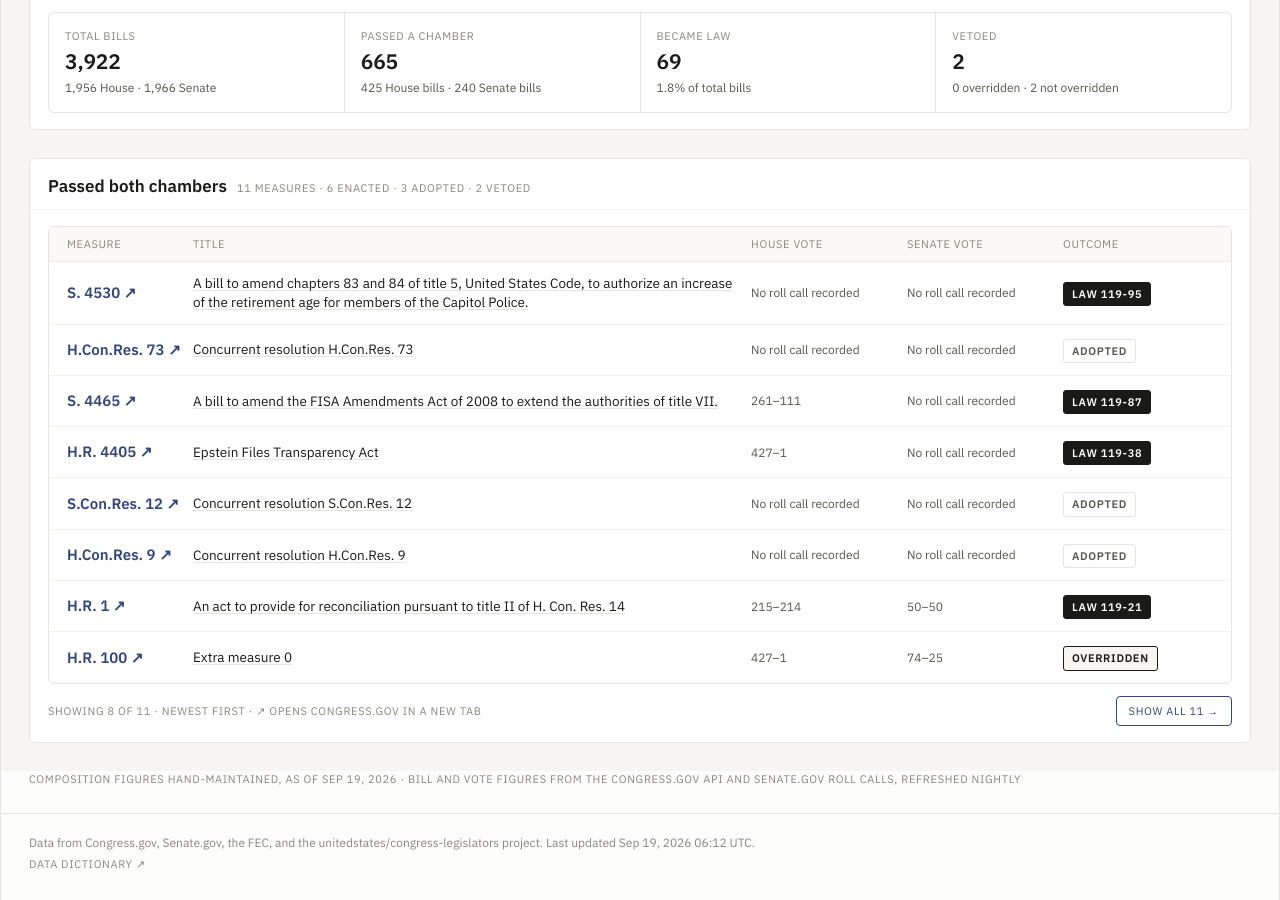
congress overview: given these mart rows, this text renders › cuts at eight rows and expands in place, with veto and override outcomes
(page scrolled)
Expected: the text "Showing 8 of 11" is shown, [48,704,482,718]
Expected: the text "Extra measure 3" is not shown
Click the button "Show all 11 →" at [1174, 711], box [1116,696,1232,726]
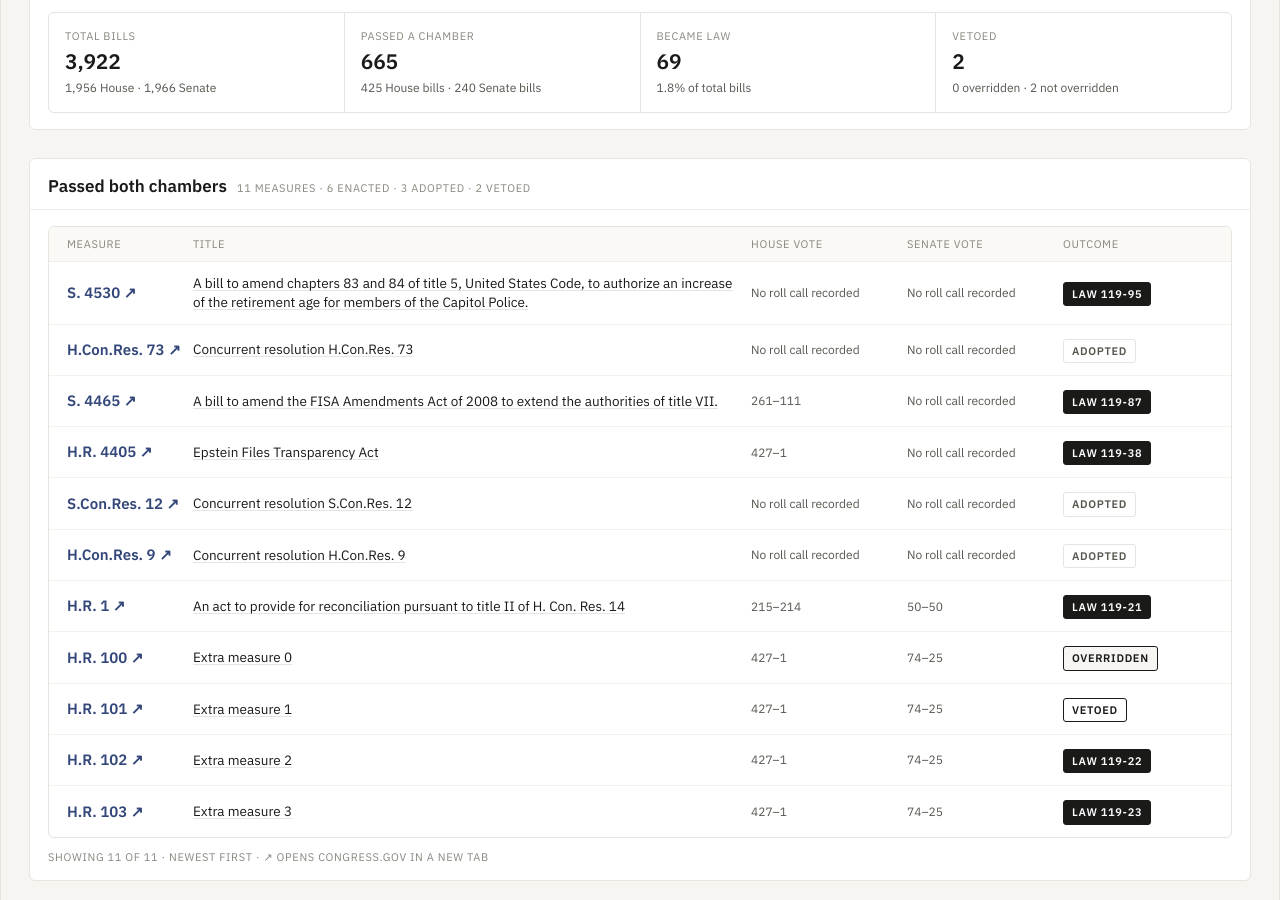
Expected: the text "Showing 11 of 11" is shown, [48,850,489,864]
Expected: the link "Extra measure 3" is shown, [193,802,292,820]
Expected: the button "Show all" is gone
